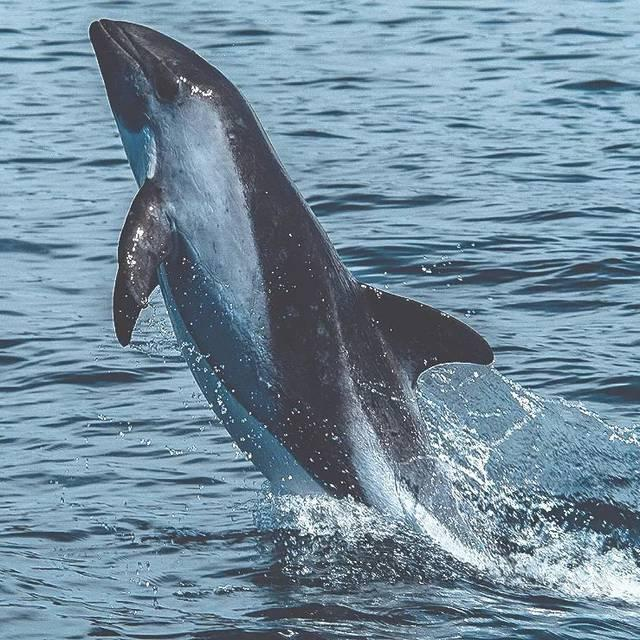fish: (76, 12, 563, 609)
